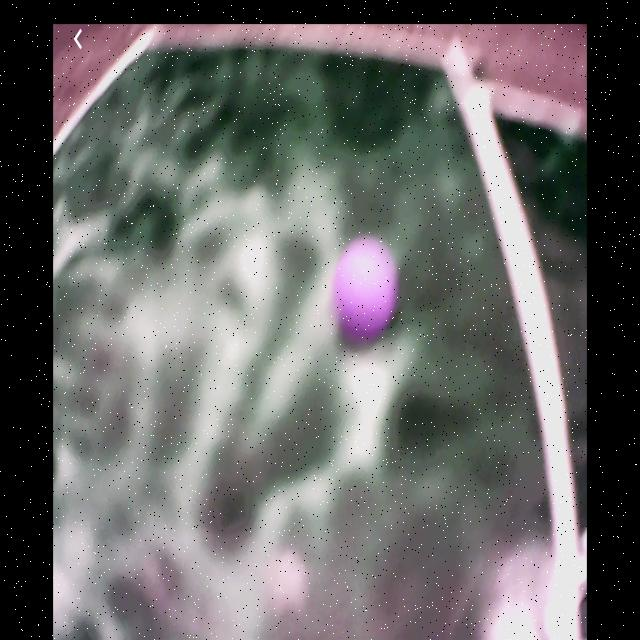ball: (333, 239, 397, 335)
